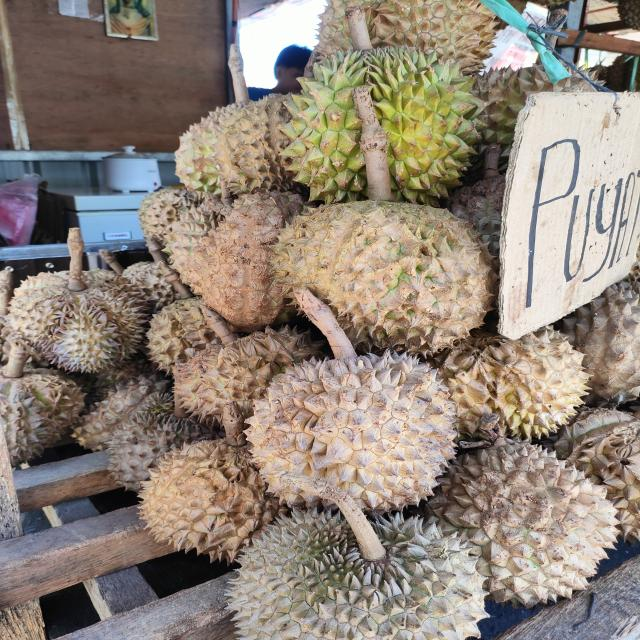mature: (263, 199, 500, 359), (404, 436, 620, 611), (245, 349, 462, 516), (221, 507, 492, 640), (421, 324, 594, 444), (132, 437, 290, 564), (170, 191, 316, 328), (7, 261, 150, 376), (171, 91, 300, 193)
